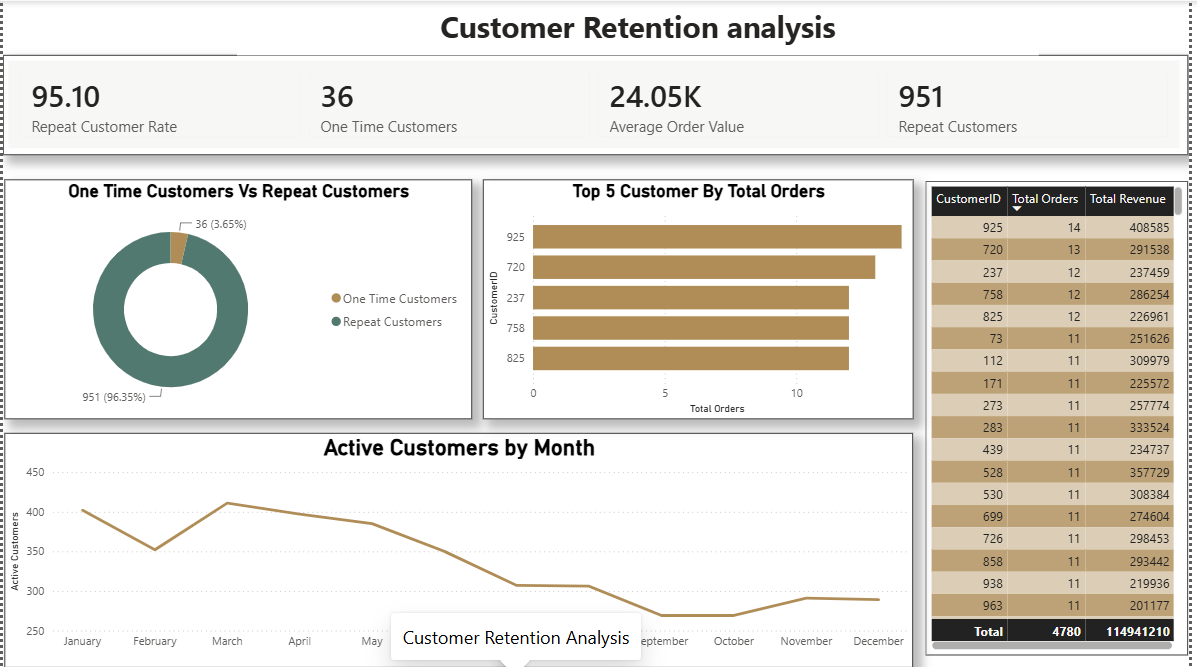

Layout of this report page (visuals, bound fields, positions):
{"tool":"powerbi","page":{"name":"Customer Retention Analysis","canvas":[1280,720],"ordinal":1},"visuals":[{"type":"cardVisual","fields":{"Data":["Customers.Repeat Customer Rate","Categories.One Time Customers","Orders.Average Order Value","Orders.Repeat Customers"]},"box":[0,58.6,1279.4,107.7],"z":0},{"type":"donutChart","title":"One Time Customers Vs Repeat Customers","fields":{"Y":["Categories.One Time Customers","Orders.Repeat Customers"]},"box":[1.9,192.8,504.6,258.9],"z":1000},{"type":"tableEx","fields":{"Values":["Orders.CustomerID","Orders.Total Orders","Orders.Total Revenue"]},"box":[995.9,194.6,283.5,512.1],"z":2000},{"type":"lineChart","title":"Active Customers by Month","fields":{"Category":["Orders.OrderDate.Variation.Date Hierarchy.Month"],"Y":["Orders.Active Customers"]},"box":[1.9,466.8,980.8,253.2],"z":3000},{"type":"barChart","title":"Top 5 Customer By Total Orders","fields":{"Category":["Customers.CustomerID"],"Y":["Orders.Total Orders"]},"box":[517.8,192.8,464.9,258.9],"z":4000},{"type":"textbox","box":[253.2,0,865.5,58.6],"z":5000}]}

Visuals, with their boxes in screenshot pixels (x1, y1, x2, y2), scaled from the page's 1280x720 canvas onto the 1197x667 screenshot:
cardVisual - Customers.Repeat Customer Rate x Categories.One Time Customers: [left=0, top=54, right=1196, bottom=154]
"One Time Customers Vs Repeat Customers" donutChart: [left=2, top=179, right=474, bottom=418]
tableEx - Orders.CustomerID x Orders.Total Orders: [left=931, top=180, right=1196, bottom=655]
"Active Customers by Month" lineChart: [left=2, top=432, right=919, bottom=666]
"Top 5 Customer By Total Orders" barChart: [left=484, top=179, right=919, bottom=418]
textbox: [left=237, top=0, right=1046, bottom=54]
